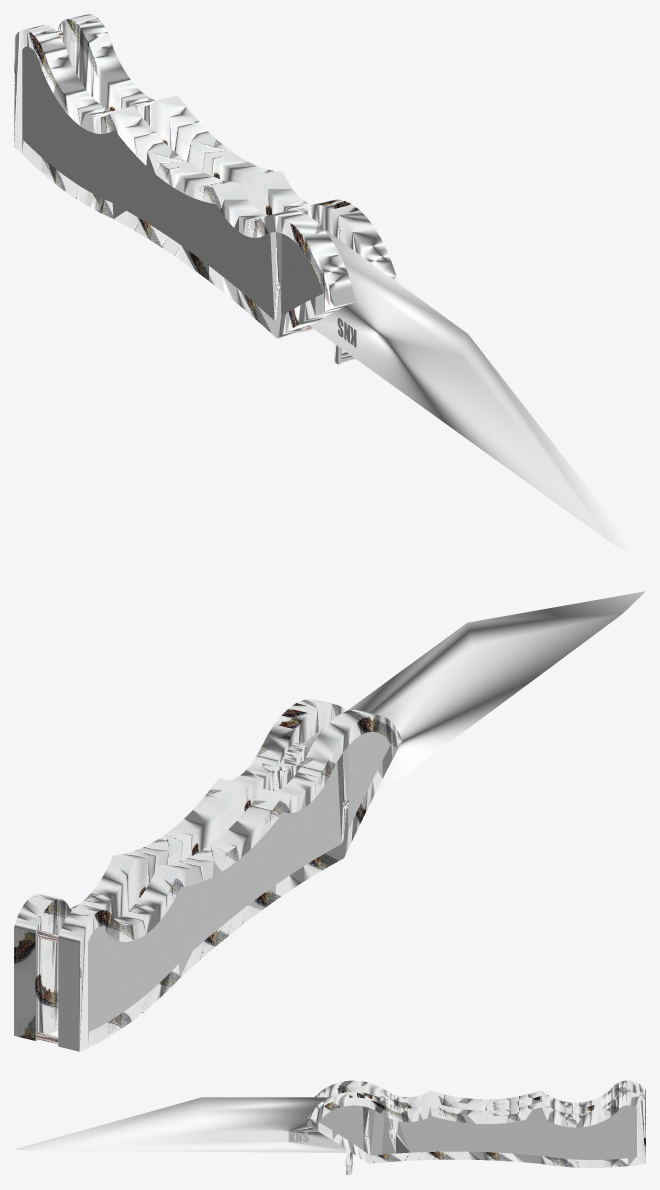
The model's file is model_align.obj.
The picture shows the model from 3 angles, top to bottom: view 1: azimuth 30°, elevation 25°; view 2: azimuth 150°, elevation 25°; view 3: azimuth 270°, elevation 25°; orthographic projection. The views are drawn at different scales.
Bounding box in the file's own units: 0.0149 × 0.0289 × 0.2104.
